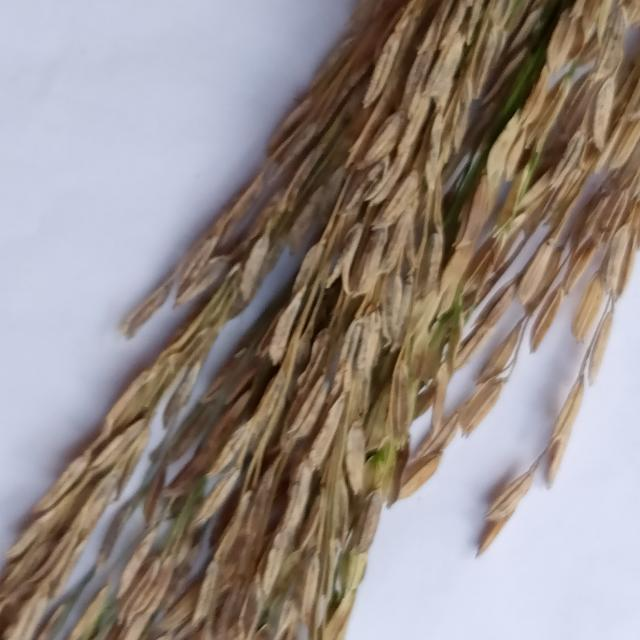Neck_Blast: (3, 0, 640, 640)
